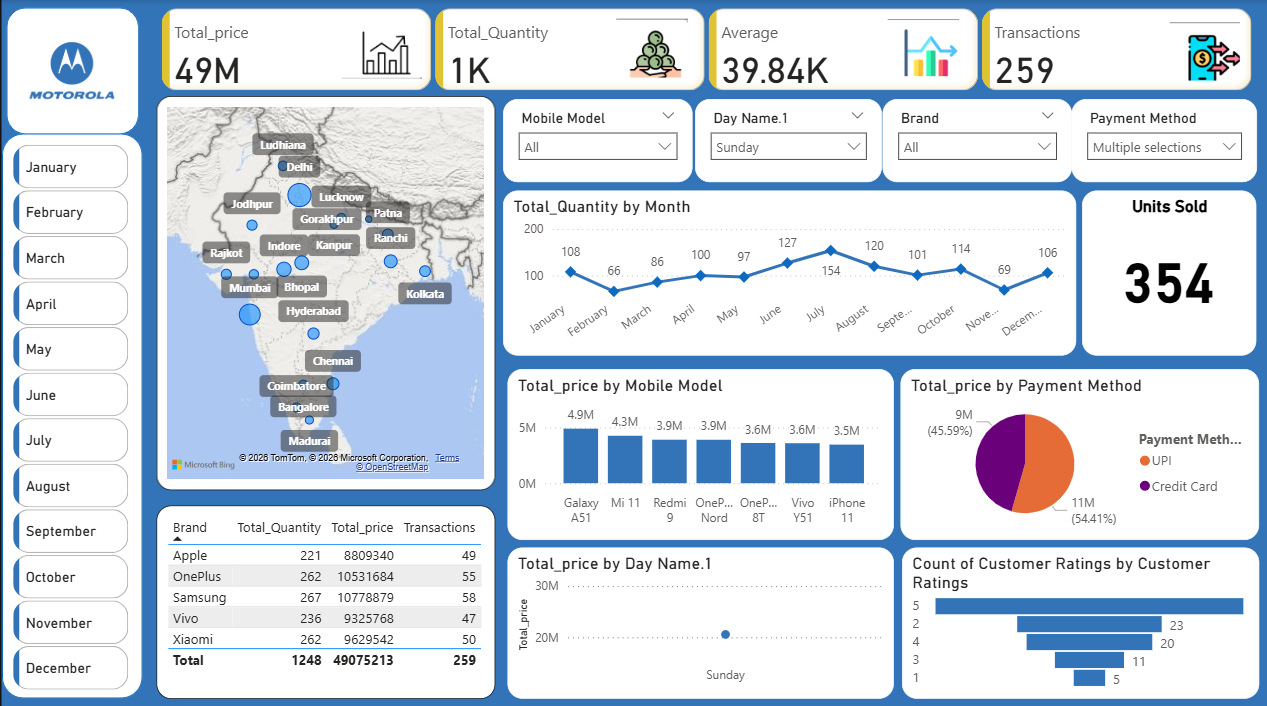

The dashboard page shown, as its layout file describes it:
{"tool":"powerbi","page":{"name":"Page 1","canvas":[1280,720],"ordinal":0},"visuals":[{"type":"shape","box":[4.1,6.9,133.6,128.1],"z":0},{"type":"image","box":[12.4,16.5,117.1,107.5],"z":1000},{"type":"shape","box":[0,135,141.9,570.3],"z":2000},{"type":"advancedSlicerVisual","fields":{"Values":["Sheet1.Date.Variation.Date Hierarchy.Month"]},"box":[5.5,140.5,126.7,564.8],"z":3000},{"type":"cardVisual","fields":{"Data":["Sales_data.Total_price","Sales_data.Total_Quantity","Sales_data.Average","Sales_data.Total_transactions"]},"box":[156,3,1112.9,93.9],"z":4000},{"type":"map","fields":{"Category":["Sales_data.City"],"Size":["Sales_data.Total_price"]},"box":[156,96.9,342.2,398.2],"z":5000},{"type":"clusteredColumnChart","fields":{"Category":["Sales_data.Mobile Model"],"Y":["Sales_data.Total_price"]},"box":[510.3,372.5,390,172.6],"z":6000},{"type":"pieChart","fields":{"Category":["Sales_data.Payment Method"],"Y":["Sales_data.Total_price"]},"box":[907,372.5,361.9,172.6],"z":7000},{"type":"funnel","fields":{"Category":["Sales_data.Customer Ratings"],"Y":["CountNonNull(Sales_data.Customer Ratings)"]},"box":[907.8,552.4,360.9,152.9],"z":8000},{"type":"areaChart","fields":{"Category":["Sales_data.Day Name.1"],"Y":["Sales_data.Total_price"]},"box":[509.7,552.4,389.9,152.9],"z":9000},{"type":"tableEx","fields":{"Values":["Sales_data.Brand","Sales_data.Total_Quantity","Sales_data.Total_price","Sales_data.Transactions"]},"box":[156,510.3,342.2,195.3],"z":10000},{"type":"slicer","fields":{"Values":["Sales_data.Payment Method"]},"box":[1080,100.6,187.4,84],"z":11000},{"type":"slicer","fields":{"Values":["Sales_data.Mobile Model"]},"box":[505.6,100.6,191.5,84],"z":12000},{"type":"slicer","fields":{"Values":["Sales_data.Day Name.1"]},"box":[699.8,100.6,188.7,84],"z":13000},{"type":"slicer","fields":{"Values":["Sales_data.Brand"]},"box":[888.5,100.6,191.5,84],"z":14000},{"type":"kpi","title":"Units Sold","fields":{"Indicator":["Sum(Sales_data.Units Sold)"],"TrendLine":["Sales_data.Date.Variation.Date Hierarchy.Year"]},"box":[1089.7,192.9,176,166.7],"z":15000},{"type":"lineChart","fields":{"Category":["Sales_data.Date.Variation.Date Hierarchy.Month","Sales_data.Date.Variation.Date Hierarchy.Day"],"Y":["Sales_data.Total_Quantity"]},"box":[505.6,192.9,578.6,166.7],"z":16000},{"type":"image","box":[337.7,0,90.9,92.4],"z":17000},{"type":"image","box":[1173.7,16.5,81.3,70.3],"z":18000},{"type":"image","box":[888.5,6.9,82.7,81.3],"z":19000},{"type":"image","box":[614.4,6.9,82.7,82.7],"z":20000}]}

Visuals, with their boxes in screenshot pixels (x1, y1, x2, y2), scaled from the page's 1280x720 canvas onto the 1267x706 screenshot:
shape: [x1=4, y1=7, x2=136, y2=132]
image: [x1=12, y1=16, x2=128, y2=122]
shape: [x1=0, y1=132, x2=140, y2=692]
advancedSlicerVisual - Sheet1.Date.Variation.Date Hierarchy.Month: [x1=5, y1=138, x2=131, y2=692]
cardVisual - Sales_data.Total_price x Sales_data.Total_Quantity: [x1=154, y1=3, x2=1256, y2=95]
map - Sales_data.City x Sales_data.Total_price: [x1=154, y1=95, x2=493, y2=485]
clusteredColumnChart - Sales_data.Mobile Model x Sales_data.Total_price: [x1=505, y1=365, x2=891, y2=535]
pieChart - Sales_data.Payment Method x Sales_data.Total_price: [x1=898, y1=365, x2=1256, y2=535]
funnel - Sales_data.Customer Ratings x CountNonNull(Sales_data.Customer Ratings): [x1=899, y1=542, x2=1256, y2=692]
areaChart - Sales_data.Day Name.1 x Sales_data.Total_price: [x1=505, y1=542, x2=890, y2=692]
tableEx - Sales_data.Brand x Sales_data.Total_Quantity: [x1=154, y1=500, x2=493, y2=692]
slicer - Sales_data.Payment Method: [x1=1069, y1=99, x2=1255, y2=181]
slicer - Sales_data.Mobile Model: [x1=500, y1=99, x2=690, y2=181]
slicer - Sales_data.Day Name.1: [x1=693, y1=99, x2=879, y2=181]
slicer - Sales_data.Brand: [x1=879, y1=99, x2=1069, y2=181]
"Units Sold" kpi: [x1=1079, y1=189, x2=1253, y2=353]
lineChart - Sales_data.Date.Variation.Date Hierarchy.Month x Sales_data.Date.Variation.Date Hierarchy.Day: [x1=500, y1=189, x2=1073, y2=353]
image: [x1=334, y1=0, x2=424, y2=91]
image: [x1=1162, y1=16, x2=1242, y2=85]
image: [x1=879, y1=7, x2=961, y2=86]
image: [x1=608, y1=7, x2=690, y2=88]
